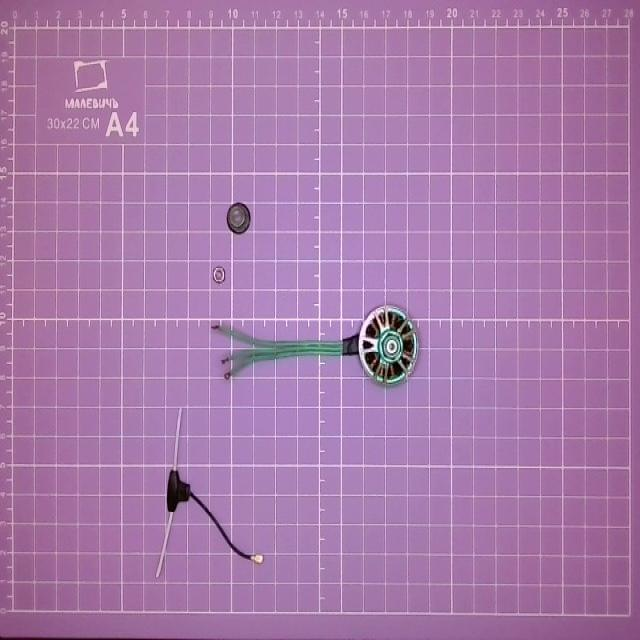antenna: (155, 406, 266, 581)
motor: (216, 302, 435, 392)
screw_M3: (205, 263, 232, 289)
screw_M5: (224, 195, 252, 242)
